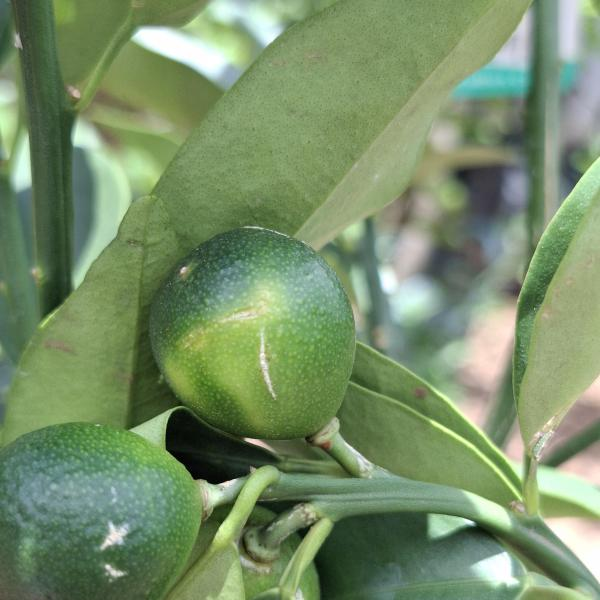Scab: (136, 222, 364, 449), (0, 419, 213, 591)
